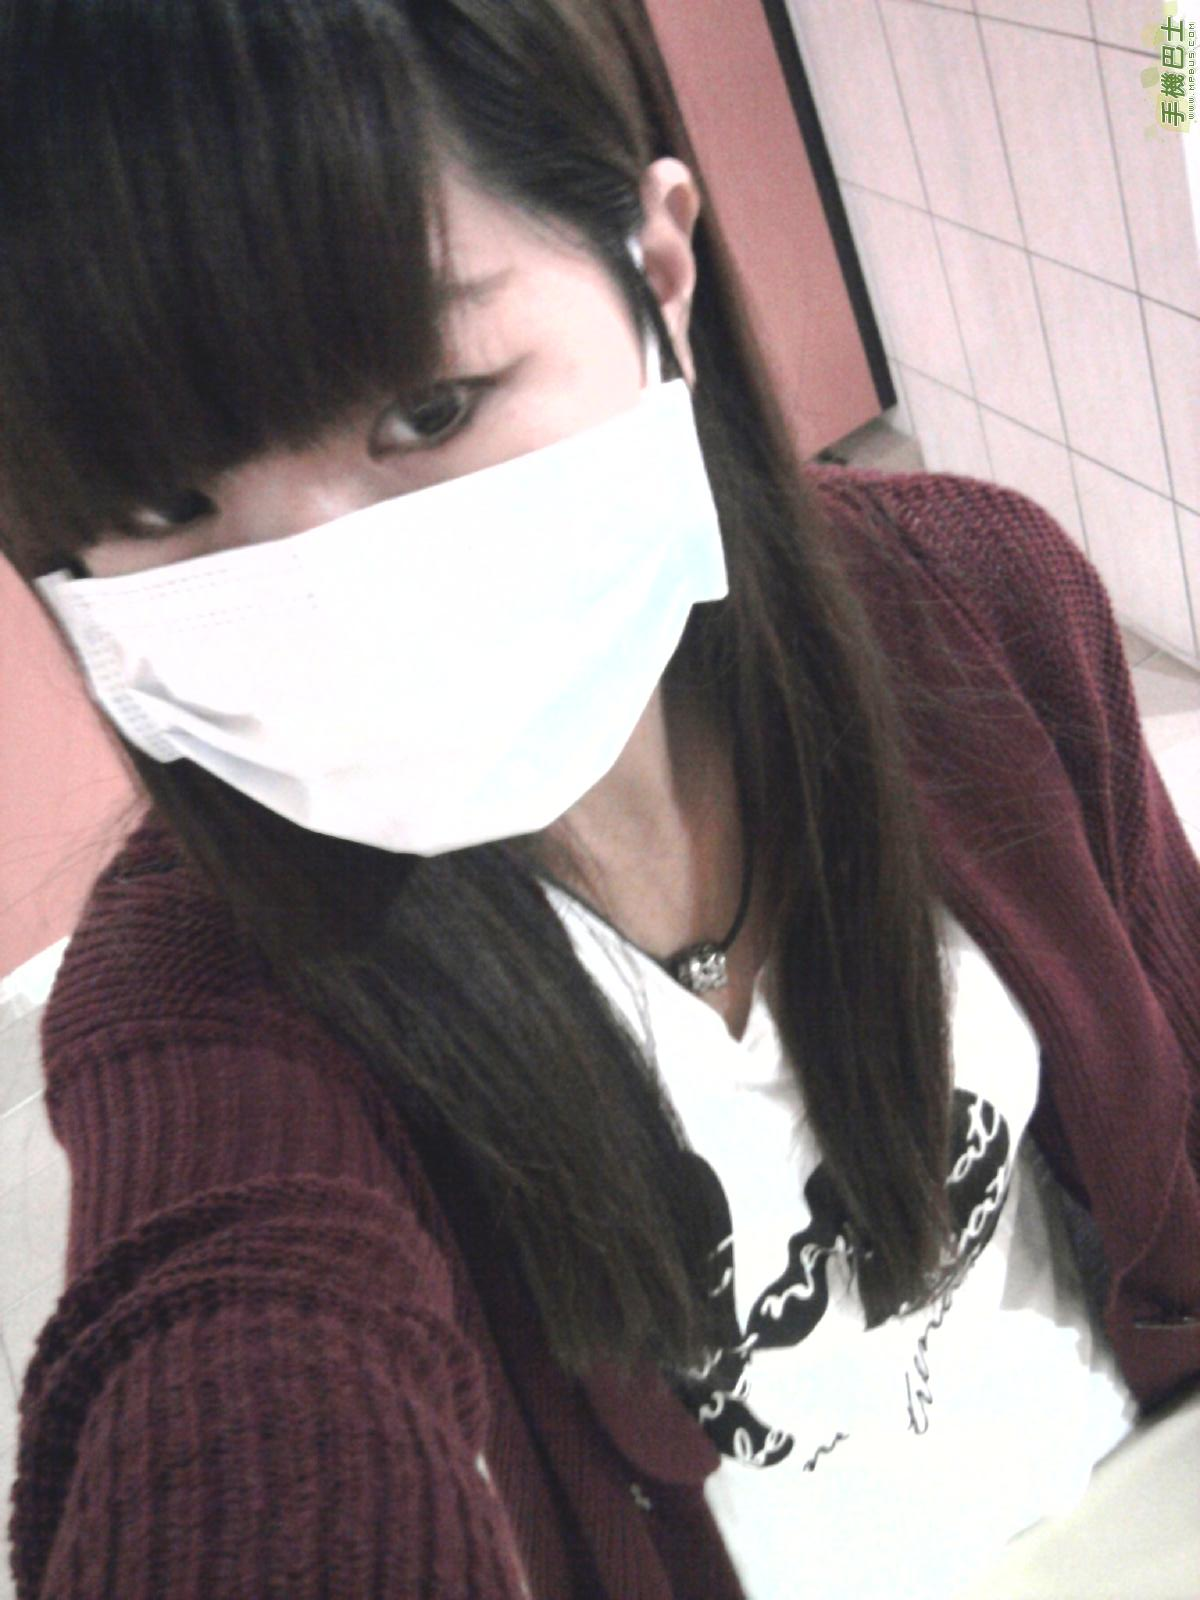face_mask: (80, 79, 688, 857)
